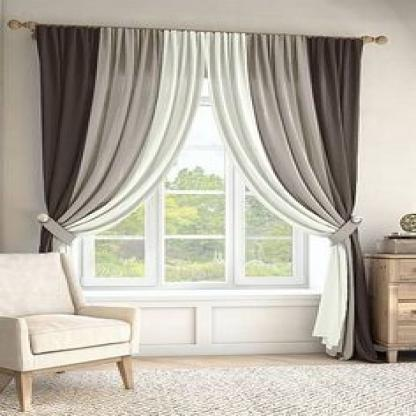Curtains: (8, 18, 380, 361)
